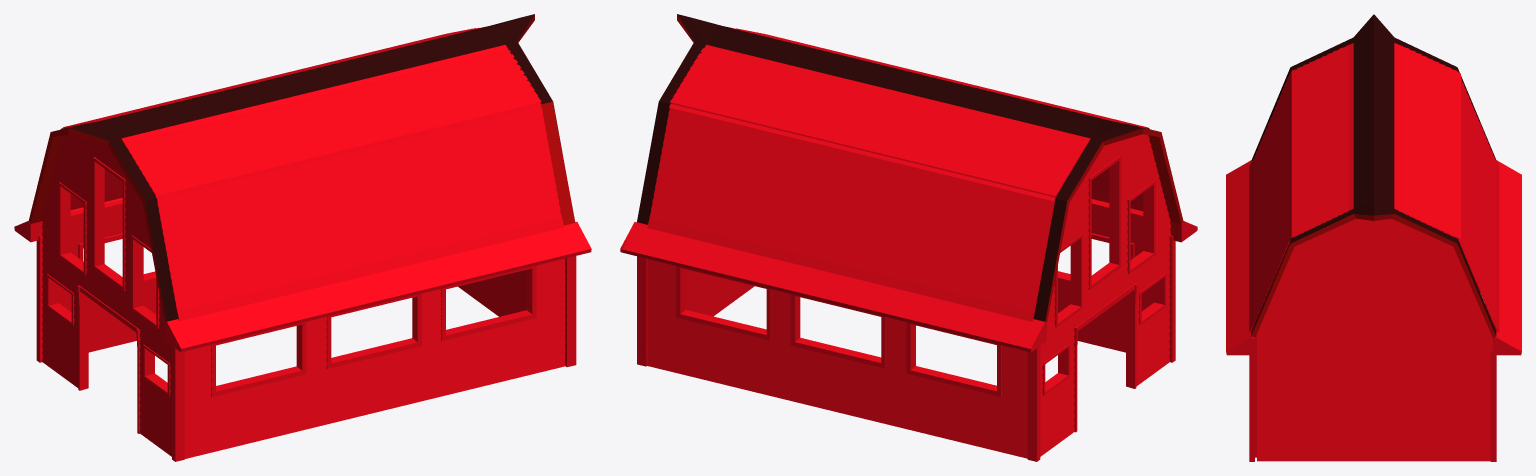
The model's file is Barn (Final).fbx.
3 views of the same model, side by side, from view 1: azimuth 30°, elevation 25°; view 2: azimuth 150°, elevation 25°; view 3: azimuth 270°, elevation 25° (orthographic). The views are drawn at different scales.
Visible parts, largest first — view 1: Left Roof, LeftWall, Arc, Barn Triangle, FrontWall, FrontWindows, LeftWindows, RightWall, Right Roof, BackWall, DoorFoundation, FrontLeftFoundation (+2 smaller); view 2: Right Roof, RightWall, Arc, Barn Triangle, FrontWall, FrontWindows, RightWindows, LeftWall, BackWall, Left Roof, DoorFoundation, FrontRightFoundation (+2 smaller); view 3: BackWall, Right Roof, Left Roof, Arc, Barn Triangle, BackRightFoundation, BackLeftFoundation.
Part boxes in pixels (bbox=[...]): Left Roof: bbox=[121, 45, 564, 321]; LeftWall: bbox=[184, 258, 565, 458]; Arc: bbox=[28, 14, 575, 322]; Barn Triangle: bbox=[14, 198, 591, 352]; FrontWall: bbox=[42, 134, 171, 456]; FrontWindows: bbox=[47, 157, 170, 396]; LeftWindows: bbox=[211, 265, 536, 396]; RightWall: bbox=[59, 199, 156, 352]; Right Roof: bbox=[60, 28, 480, 210]; BackWall: bbox=[458, 270, 526, 316]; DoorFoundation: bbox=[77, 285, 140, 433]; FrontLeftFoundation: bbox=[172, 346, 184, 461]; Right Roof: bbox=[647, 45, 1090, 321]; RightWall: bbox=[647, 259, 1027, 458]; Arc: bbox=[637, 14, 1183, 322]; Barn Triangle: bbox=[620, 199, 1197, 352]; FrontWall: bbox=[1040, 134, 1170, 456]; FrontWindows: bbox=[1042, 155, 1166, 395]; RightWindows: bbox=[676, 266, 1001, 396]; LeftWall: bbox=[1058, 200, 1154, 352]; BackWall: bbox=[686, 269, 754, 316]; Left Roof: bbox=[732, 28, 1149, 211]; DoorFoundation: bbox=[1074, 283, 1137, 432]; FrontRightFoundation: bbox=[1027, 346, 1040, 461]; BackWall: bbox=[1257, 218, 1492, 461]; Right Roof: bbox=[1394, 43, 1499, 332]; Left Roof: bbox=[1249, 43, 1353, 332]; Arc: bbox=[1251, 14, 1496, 337]; Barn Triangle: bbox=[1226, 160, 1521, 355]; BackRightFoundation: bbox=[1490, 350, 1496, 461]; BackLeftFoundation: bbox=[1249, 355, 1254, 461].
Bounding box in the file's own units: 1289 × 773 × 799.
